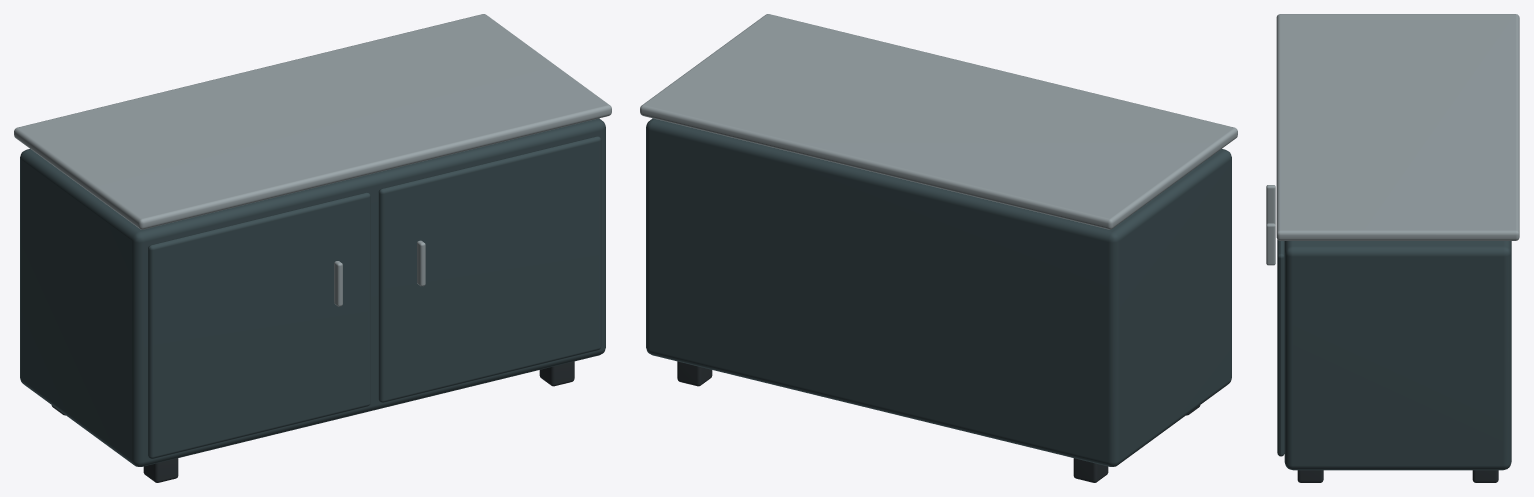
File: HotelTogether-KitchenCounter.glb
3 views of the same model, side by side, from view 1: azimuth 30°, elevation 25°; view 2: azimuth 150°, elevation 25°; view 3: azimuth 270°, elevation 25° (orthographic). The views are drawn at different scales.
Visible parts, largest first — view 1: Counter_Top, Counter_Door.001, Counter_Door, Counter_Carcass, Counter_Foot, Counter_Foot.002; view 2: Counter_Carcass, Counter_Top, Counter_Foot.001, Counter_Foot.003; view 3: Counter_Top, Counter_Carcass, Counter_Door.001, Counter_Handle.001, Counter_Handle, Counter_Foot.002, Counter_Foot.003.
Boxes of the visible parts, x1,y1,x2,y2 form: Counter_Top: [14, 14, 611, 229]; Counter_Door.001: [378, 136, 601, 402]; Counter_Door: [148, 192, 370, 458]; Counter_Carcass: [20, 118, 605, 466]; Counter_Foot: [143, 458, 178, 482]; Counter_Foot.002: [539, 361, 574, 386]; Counter_Carcass: [646, 118, 1231, 466]; Counter_Top: [640, 14, 1237, 229]; Counter_Foot.001: [1073, 458, 1108, 482]; Counter_Foot.003: [677, 361, 712, 386]; Counter_Top: [1276, 14, 1519, 240]; Counter_Carcass: [1284, 241, 1511, 470]; Counter_Door.001: [1277, 239, 1284, 456]; Counter_Handle.001: [1266, 223, 1275, 265]; Counter_Handle: [1266, 185, 1275, 224]; Counter_Foot.002: [1297, 470, 1323, 482]; Counter_Foot.003: [1472, 470, 1498, 482].
Size of the model in its own units: 1.6 by 0.9 by 0.7815.
